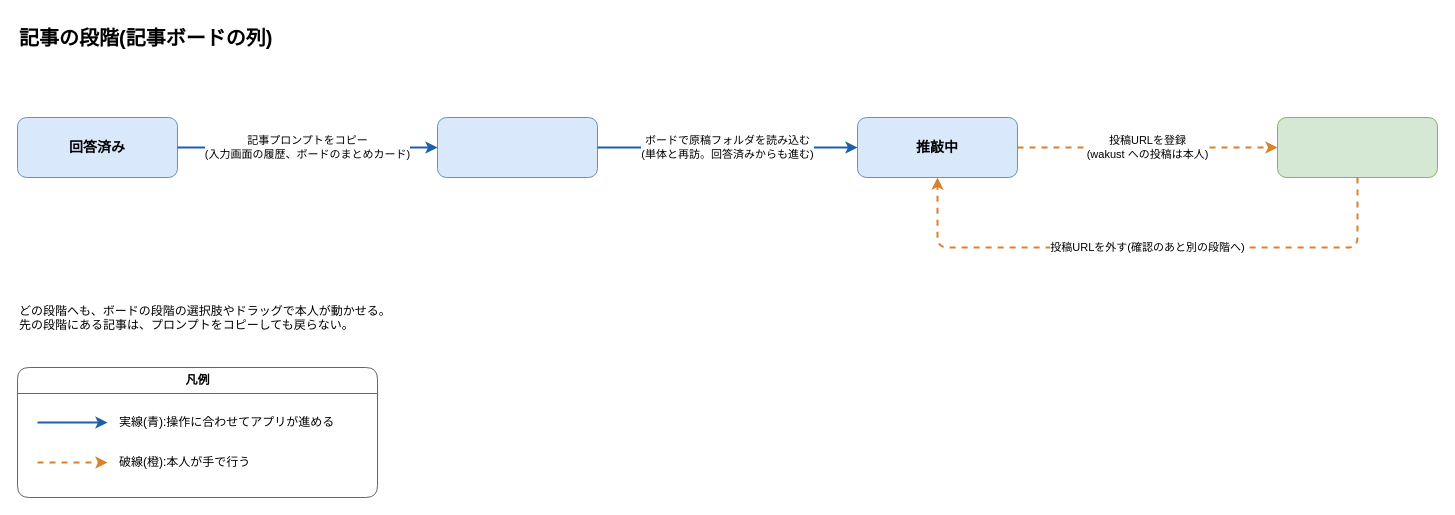
Some shapes in this 1455 by 515 pixel diagram are drawn without their labels. The shapes that lost their labels are listed below. From the top down, each one's centre as x and y in pixels, then its label:
At (x=517, y=147): "プロンプト出力".
At (x=1357, y=147): "投稿済み".
